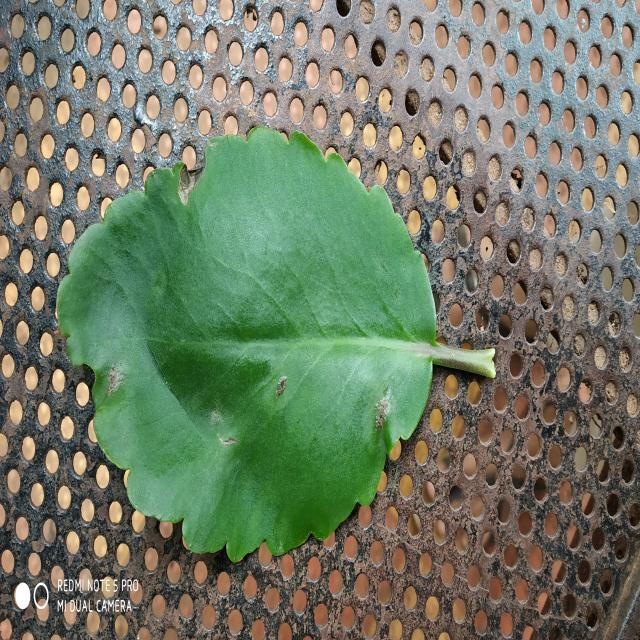defectedspinach: (74, 307, 140, 469)
spinach: (56, 127, 438, 560), (58, 276, 138, 467)
